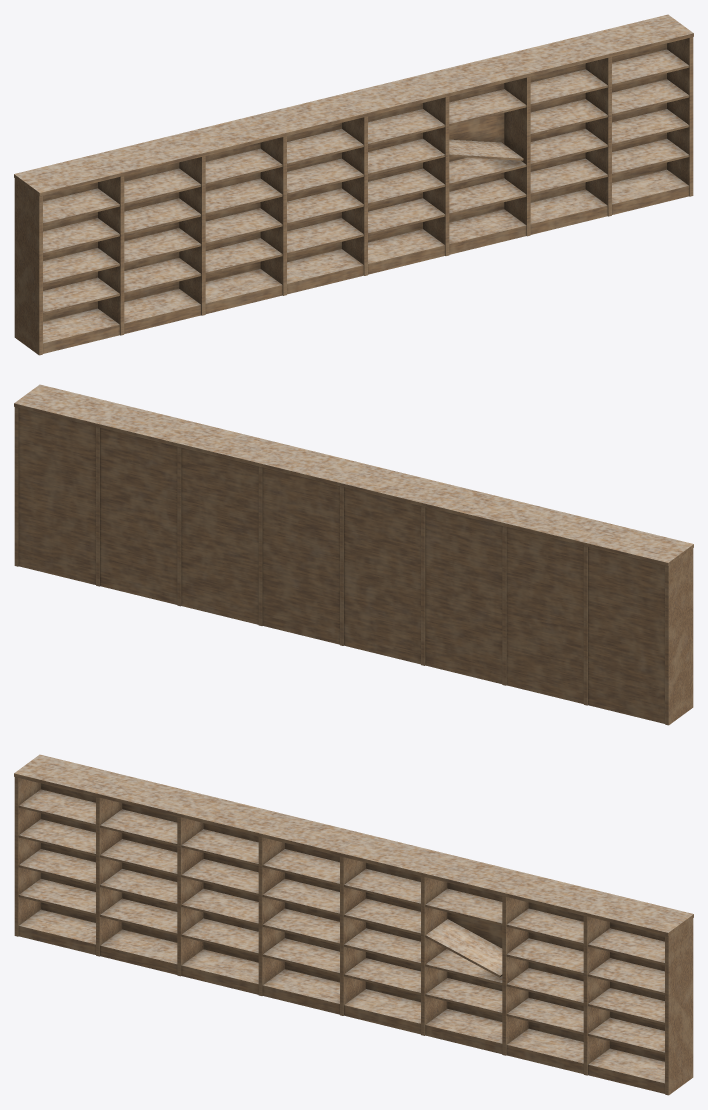
Rendered from bookshelf_wall.fbx.
The picture shows the model from 3 angles, top to bottom: view 1: azimuth 30°, elevation 25°; view 2: azimuth 150°, elevation 25°; view 3: azimuth 330°, elevation 25°; orthographic projection.
Parts seen in each view (by area): view 1: Body; view 2: Body; view 3: Body.
Part boxes in pixels (<box>): Body: <box>14,14,693,355</box>; Body: <box>14,384,693,725</box>; Body: <box>14,754,693,1095</box>.
Size of the model in its own units: 32.18 by 7.66 by 2.2.
Materials: 1 (1 with a texture image).
